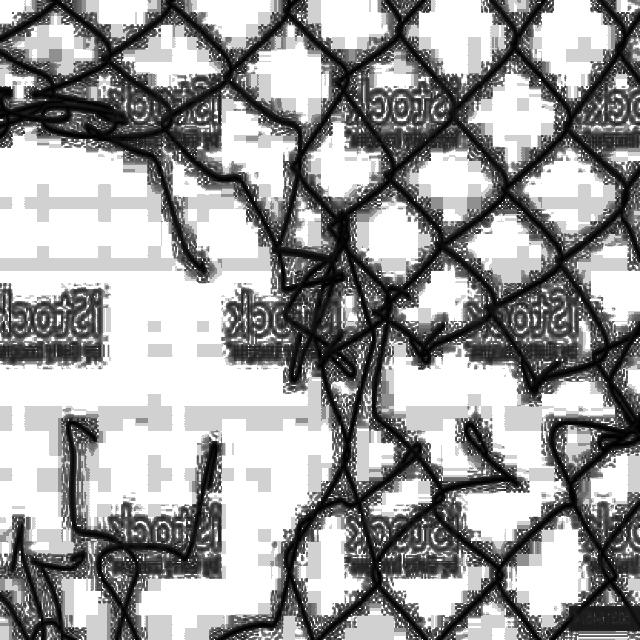anomaly-fence: (0, 80, 640, 599)
